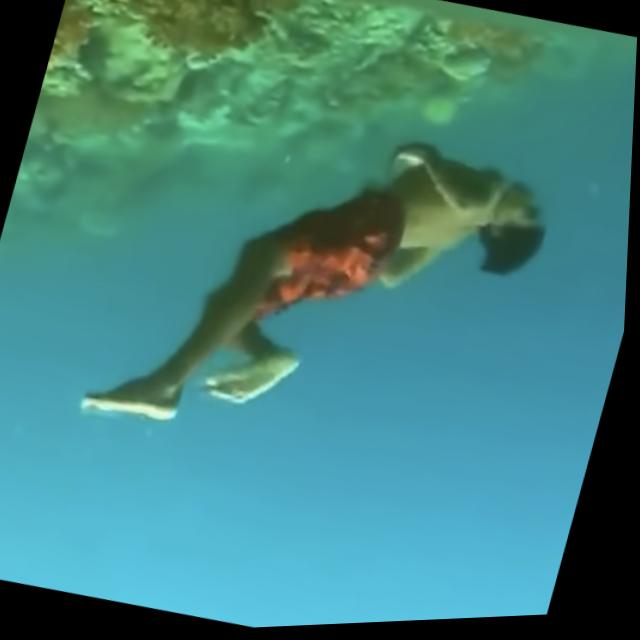human: (75, 73, 576, 509)
